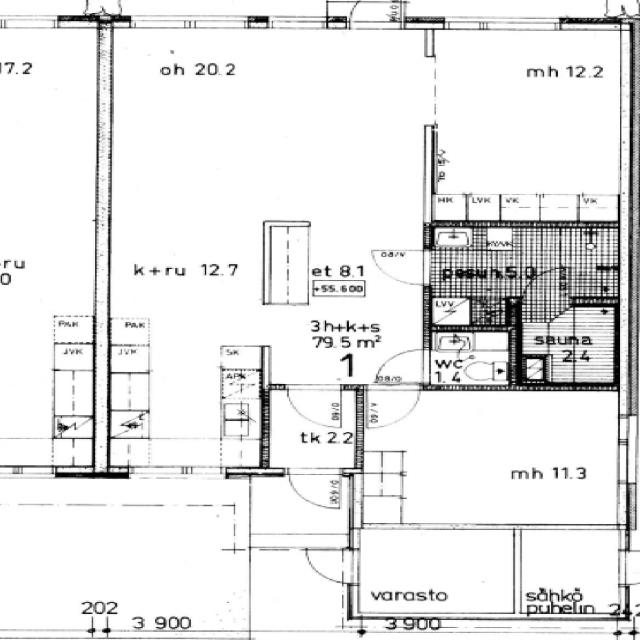door: (287, 468, 339, 514), (288, 384, 342, 428), (366, 384, 419, 428), (299, 549, 359, 583), (374, 251, 430, 284), (523, 265, 569, 305), (376, 350, 429, 381), (350, 0, 399, 28), (620, 550, 640, 584)
